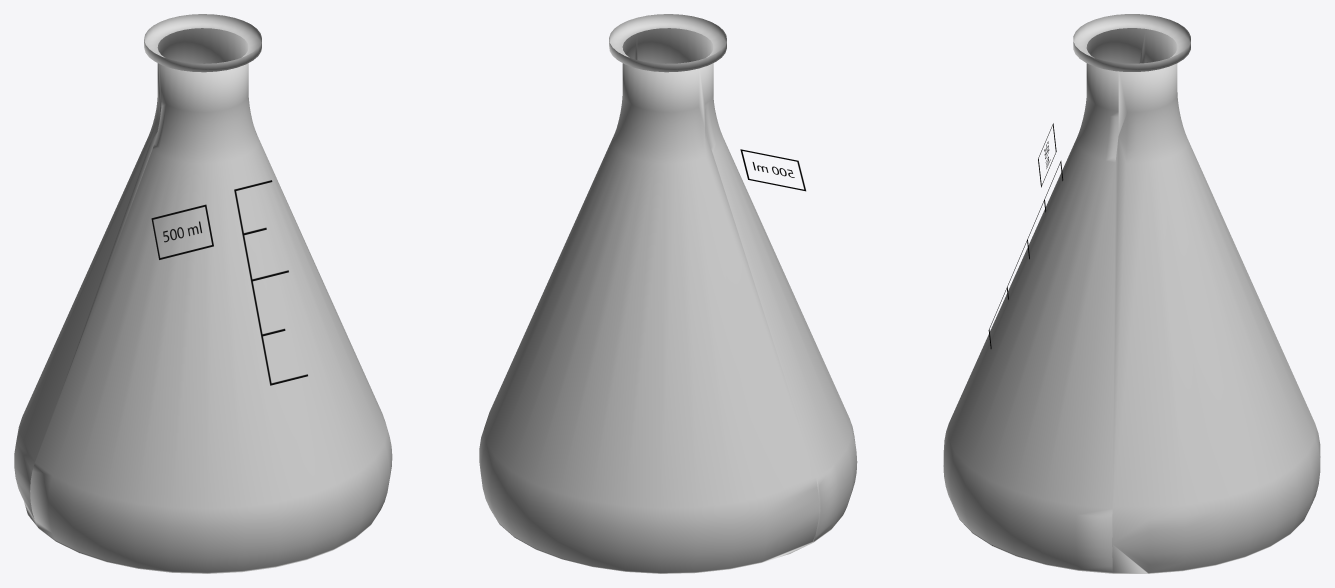
3 views of the same model, side by side, from view 1: azimuth 30°, elevation 25°; view 2: azimuth 150°, elevation 25°; view 3: azimuth 270°, elevation 25° (orthographic).
Parts seen in each view (by area): view 1: Circle, mesures; view 2: Circle; view 3: Circle, mesures.
Boxes of the visible parts, left/top/right/bottom form: Circle: left=14, top=14, right=392, bottom=573; mesures: left=151, top=180, right=308, bottom=385; Circle: left=479, top=14, right=857, bottom=573; Circle: left=943, top=14, right=1320, bottom=573; mesures: left=988, top=123, right=1063, bottom=349.
Size of the model in its own units: 2.07 by 2.7 by 2.01.
Materials: 2 (1 with a texture image).
